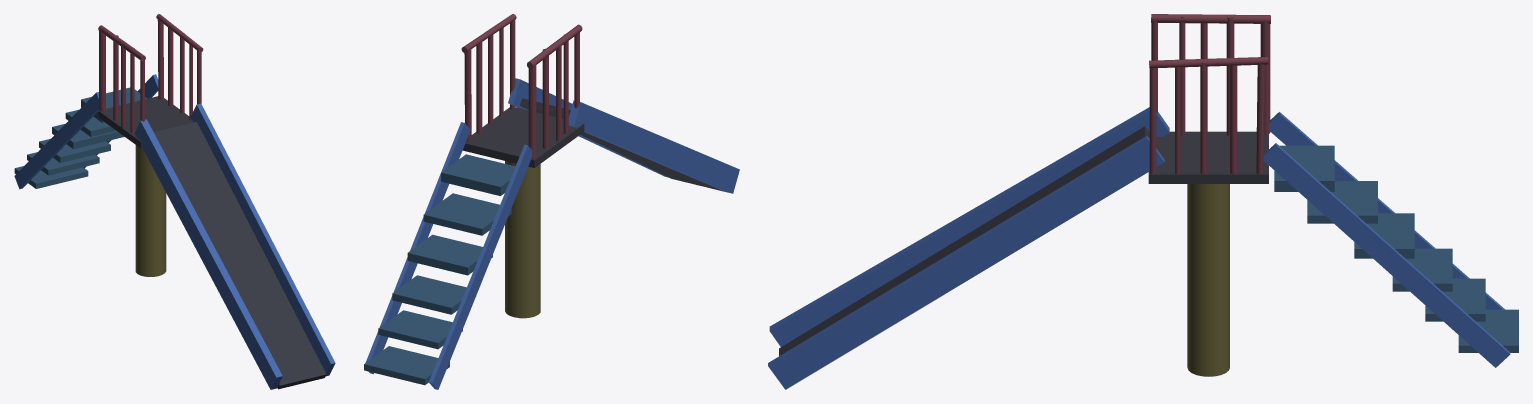
Rendered from suberidai.fbx.
3 renders of one model, left to right at view 1: azimuth 30°, elevation 25°; view 2: azimuth 150°, elevation 25°; view 3: azimuth 270°, elevation 25°, orthographic. The views are drawn at different scales.
Parts seen in each view (by area): view 1: pCube10, pCube12, pCube11, pCylinder1, pCube1, pCube3, pCube4, pCube6, pCube5, pCube7, pCylinder7, pCube8 (+12 smaller); view 2: pCylinder1, pCube12, pCube1, pCube3, pCube2, pCube8, pCube9, pCube7, pCube6, pCube5, pCube4, pCube10 (+13 smaller); view 3: pCube11, pCube12, pCylinder1, pCube2, pCube1, pCube10, pCube3, pCube8, pCube9, pCube7, pCube6, pCube5 (+10 smaller).
Part boxes in pixels (x1=…): pCube10: x1=154, y1=122, x2=326, y2=389; pCube12: x1=134, y1=119, x2=282, y2=389; pCube11: x1=190, y1=103, x2=335, y2=376; pCylinder1: x1=135, y1=145, x2=166, y2=276; pCube1: x1=98, y1=96, x2=193, y2=148; pCube3: x1=14, y1=92, x2=98, y2=189; pCube4: x1=14, y1=166, x2=88, y2=188; pCube6: x1=39, y1=138, x2=110, y2=162; pCube5: x1=27, y1=152, x2=99, y2=175; pCube7: x1=52, y1=123, x2=124, y2=149; pCylinder7: x1=99, y1=29, x2=105, y2=111; pCube8: x1=65, y1=109, x2=116, y2=136; pCylinder1: x1=505, y1=161, x2=540, y2=318; pCube12: x1=568, y1=100, x2=739, y2=193; pCube1: x1=462, y1=107, x2=584, y2=167; pCube3: x1=429, y1=144, x2=532, y2=389; pCube2: x1=365, y1=122, x2=470, y2=374; pCube8: x1=423, y1=193, x2=511, y2=235; pCube9: x1=441, y1=154, x2=525, y2=195; pCube7: x1=407, y1=234, x2=492, y2=275; pCube6: x1=392, y1=275, x2=476, y2=314; pCube5: x1=378, y1=310, x2=462, y2=349; pCube4: x1=364, y1=346, x2=449, y2=385; pCube10: x1=520, y1=98, x2=724, y2=191; pCube11: x1=768, y1=136, x2=1164, y2=389; pCube12: x1=769, y1=107, x2=1169, y2=346; pCylinder1: x1=1187, y1=184, x2=1229, y2=376; pCube2: x1=1263, y1=143, x2=1510, y2=367; pCube1: x1=1148, y1=131, x2=1268, y2=183; pCube10: x1=779, y1=126, x2=1149, y2=355; pCube3: x1=1269, y1=112, x2=1504, y2=309; pCube8: x1=1307, y1=181, x2=1377, y2=223; pCube9: x1=1274, y1=145, x2=1334, y2=191; pCube7: x1=1354, y1=213, x2=1414, y2=258; pCube6: x1=1392, y1=248, x2=1452, y2=291; pCube5: x1=1425, y1=278, x2=1485, y2=321.
Size of the model in its own units: 1.7 by 6.2 by 12.47.
